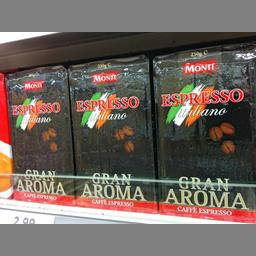coffee: (150, 44, 255, 222), (65, 54, 158, 214), (2, 63, 76, 206)
